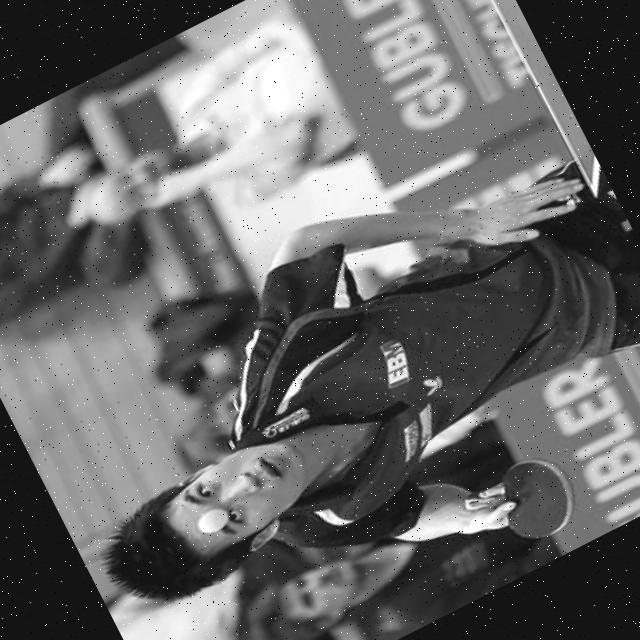ping-pong-ball: (192, 502, 230, 536)
